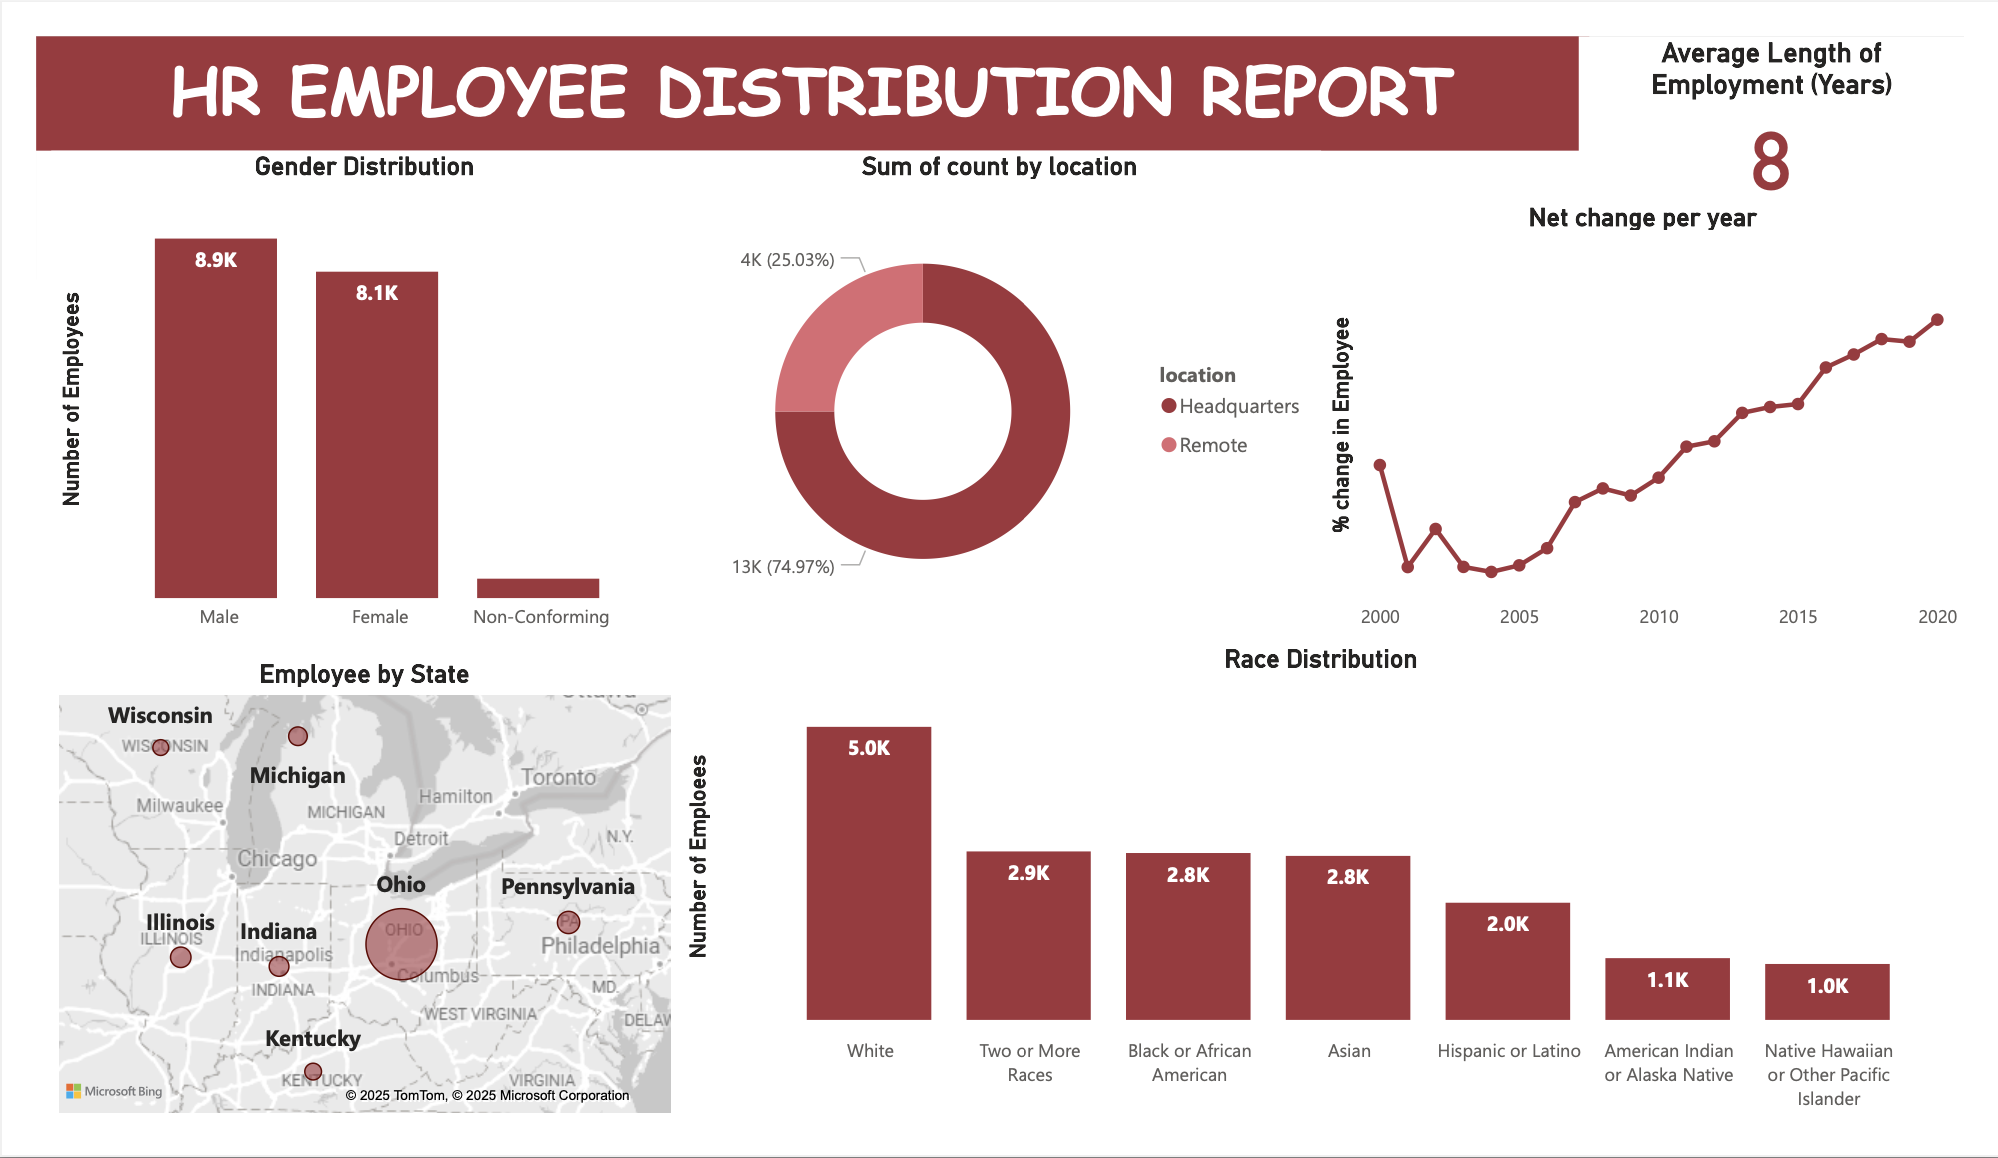

This screenshot's page, from the dashboard's own definition file:
{"tool":"powerbi","page":{"name":"Page 1","canvas":[1280,720],"ordinal":0},"visuals":[{"type":"textbox","box":[0,0,1031,76],"z":0},{"type":"card","title":"Average Length of Employment (Years)","fields":{"Values":["Sum(avg_employment_length.avg_employment_length)"]},"box":[1024,0,256,109.4],"z":1000},{"type":"columnChart","title":"Gender Distribution","fields":{"Y":["Sum(gender.count)"],"Category":["gender.gender"]},"box":[10.3,76,416.1,326.7],"z":2000},{"type":"donutChart","fields":{"Y":["Sum(location.count)"],"Category":["location.location"]},"box":[426.3,76,426.3,326.7],"z":3000},{"type":"lineChart","title":"Net change per year","fields":{"Category":["employee_change.year"],"Y":["Sum(employee_change.net_change_percentage)"]},"box":[852.6,109.9,427.4,292.8],"z":4000},{"type":"map","title":"Employee by State","fields":{"Size":["Sum(staff_distribution.employee_count)"],"Category":["staff_distribution.location_state"]},"box":[10,413,416,307],"z":5000},{"type":"clusteredColumnChart","title":"Race Distribution","fields":{"Y":["Sum(race.count)"],"Category":["race.race"]},"box":[425.9,402.6,854.1,317.7],"z":6000}]}

Visuals, with their boxes in screenshot pixels (x1, y1, x2, y2), scaled from the page's 1280x720 canvas onto the 1998x1158 screenshot:
textbox: region(0, 0, 1609, 122)
"Average Length of Employment (Years)" card: region(1598, 0, 1997, 176)
"Gender Distribution" columnChart: region(16, 122, 666, 648)
donutChart - Sum(location.count) x location.location: region(665, 122, 1331, 648)
"Net change per year" lineChart: region(1331, 177, 1997, 648)
"Employee by State" map: region(16, 664, 665, 1157)
"Race Distribution" clusteredColumnChart: region(665, 648, 1997, 1157)
